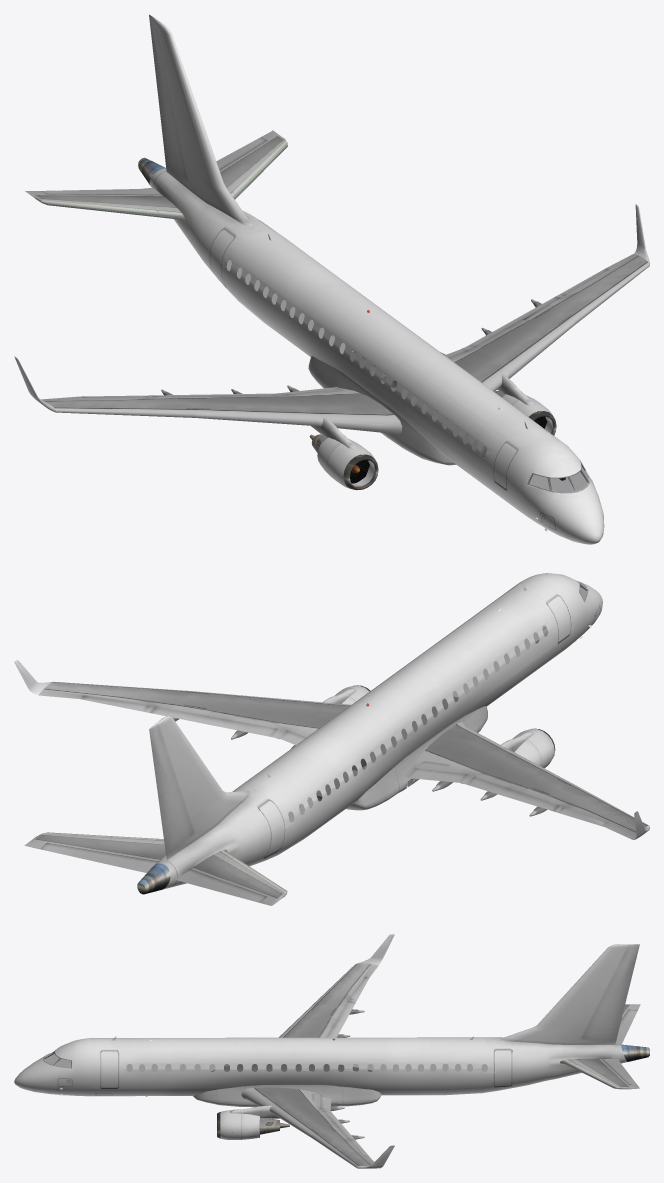
3 renders of one model, top to bottom at view 1: azimuth 30°, elevation 25°; view 2: azimuth 150°, elevation 25°; view 3: azimuth 270°, elevation 25°, orthographic. The views are drawn at different scales.
Visible parts, largest first — view 1: fuselage.001, apu.exhaust, box, cylinder.004; view 2: fuselage.001, apu.exhaust, box, cylinder.004; view 3: fuselage.001, apu.exhaust, box, cylinder.004.
Boxes of the visible parts, bbox=[...] form: fuselage.001: bbox=[149, 14, 604, 544]; apu.exhaust: bbox=[25, 130, 649, 493]; box: bbox=[14, 204, 649, 490]; cylinder.004: bbox=[227, 260, 588, 491]; fuselage.001: bbox=[149, 573, 602, 889]; apu.exhaust: bbox=[24, 580, 648, 905]; box: bbox=[14, 640, 649, 839]; cylinder.004: bbox=[288, 582, 586, 822]; fuselage.001: bbox=[14, 944, 639, 1107]; apu.exhaust: bbox=[43, 963, 649, 1167]; box: bbox=[217, 934, 394, 1168]; cylinder.004: bbox=[45, 1051, 487, 1071].
Bounding box in the file's own units: 28.2 × 10.22 × 35.83.
8 materials, 5 textured.
